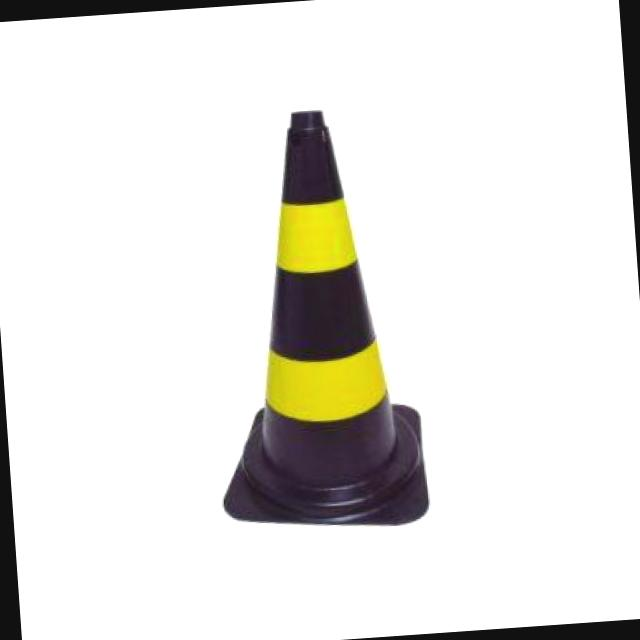cone: (199, 100, 475, 560)
